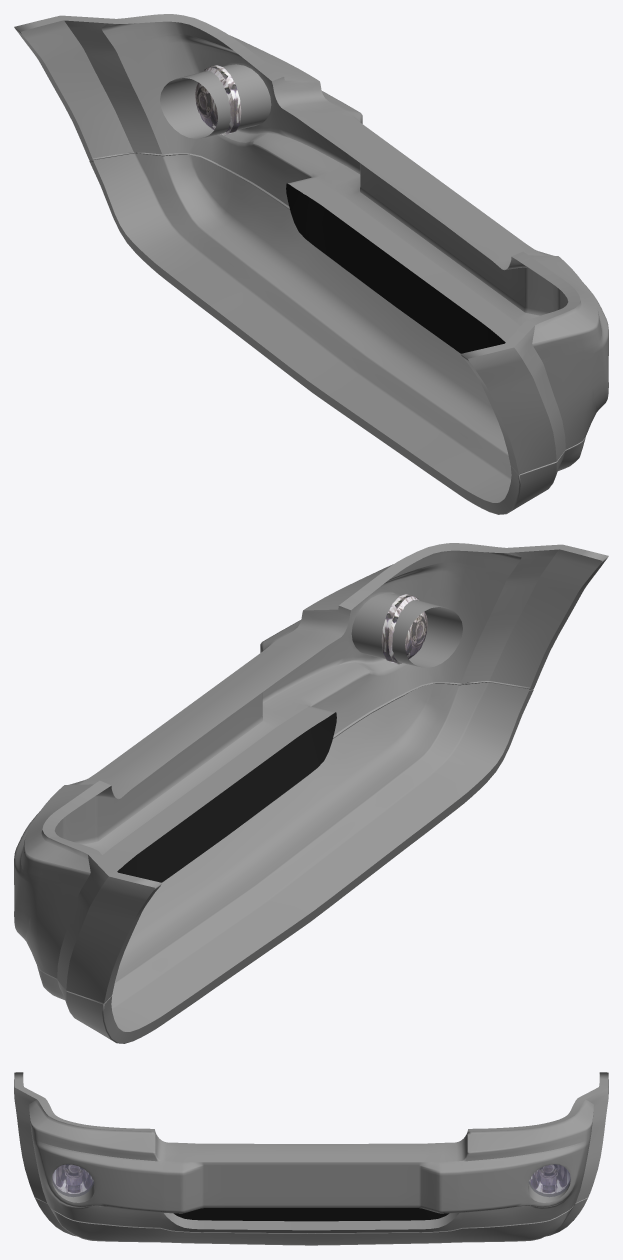
3 views of the same model, one above another, from view 1: azimuth 30°, elevation 25°; view 2: azimuth 150°, elevation 25°; view 3: azimuth 270°, elevation 25° (orthographic). The views are drawn at different scales.
Visible parts, largest first — view 1: J732_021G_C_J732_021G_C_5_DaS, J732_021G_C_J732_021G_C_8_DaS, J732_021G_C_J732_021G_C_8_DaS_E, J732_021G_C_J732_021G_C_4_D, J732_021G_C_J732_021G_C_2_N, J732_021G_C_J732_021G_C_5_DaS_E; view 2: J732_021G_C_J732_021G_C_5_DaS, J732_021G_C_J732_021G_C_8_DaS, J732_021G_C_J732_021G_C_8_DaS_E, J732_021G_C_J732_021G_C_4_D, J732_021G_C_1_N_J732_021G_C, J732_021G_C_J732_021G_C_5_DaS_E; view 3: J732_021G_C_J732_021G_C_8_DaS, J732_021G_C_J732_021G_C_8_DaS_E, J732_021G_C_J732_021G_C_5_DaS, J732_021G_C_J732_021G_C_4_D, J732_021G_C_J732_021G_C_6_DTaSI, J732_021G_C_J732_021G_C_7_DTaSI, J732_021G_C_1_N_J732_021G_C, J732_021G_C_J732_021G_C_2_N, J732_021G_C_J732_021G_C_5_DaS_E.
Part boxes in pixels (x1,y1,x2,y2): J732_021G_C_J732_021G_C_5_DaS: [89, 153, 585, 514]; J732_021G_C_J732_021G_C_8_DaS: [21, 20, 608, 473]; J732_021G_C_J732_021G_C_8_DaS_E: [14, 14, 602, 473]; J732_021G_C_J732_021G_C_4_D: [286, 183, 505, 353]; J732_021G_C_J732_021G_C_2_N: [195, 65, 241, 135]; J732_021G_C_J732_021G_C_5_DaS_E: [92, 152, 585, 514]; J732_021G_C_J732_021G_C_5_DaS: [37, 682, 533, 1043]; J732_021G_C_J732_021G_C_8_DaS: [14, 549, 601, 1002]; J732_021G_C_J732_021G_C_8_DaS_E: [20, 543, 608, 1002]; J732_021G_C_J732_021G_C_4_D: [117, 712, 336, 882]; J732_021G_C_1_N_J732_021G_C: [381, 594, 427, 664]; J732_021G_C_J732_021G_C_5_DaS_E: [37, 681, 530, 1043]; J732_021G_C_J732_021G_C_8_DaS: [14, 1079, 608, 1233]; J732_021G_C_J732_021G_C_8_DaS_E: [14, 1072, 608, 1230]; J732_021G_C_J732_021G_C_5_DaS: [35, 1198, 587, 1245]; J732_021G_C_J732_021G_C_4_D: [173, 1208, 449, 1221]; J732_021G_C_J732_021G_C_6_DTaSI: [52, 1164, 93, 1196]; J732_021G_C_J732_021G_C_7_DTaSI: [529, 1164, 570, 1196]; J732_021G_C_1_N_J732_021G_C: [52, 1164, 93, 1193]; J732_021G_C_J732_021G_C_2_N: [529, 1164, 570, 1193]; J732_021G_C_J732_021G_C_5_DaS_E: [34, 1197, 588, 1233].
Size of the model in its own units: 65.24 by 61.73 by 233.
